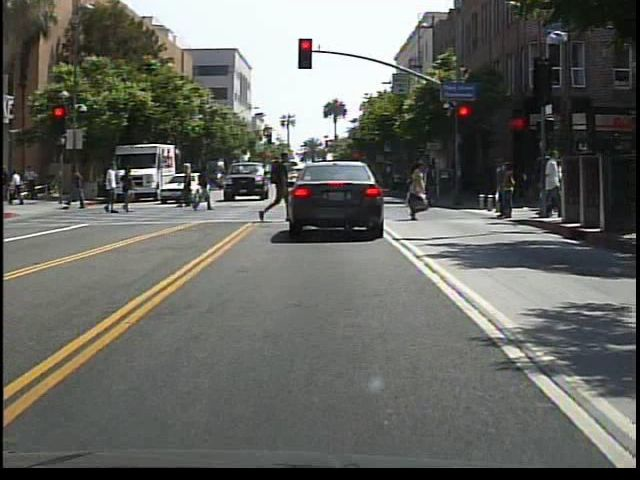person: (262, 147, 296, 225), (399, 159, 436, 227), (532, 149, 562, 223), (103, 162, 127, 218), (193, 163, 218, 215), (66, 164, 91, 214), (181, 163, 200, 211), (123, 167, 139, 214)
